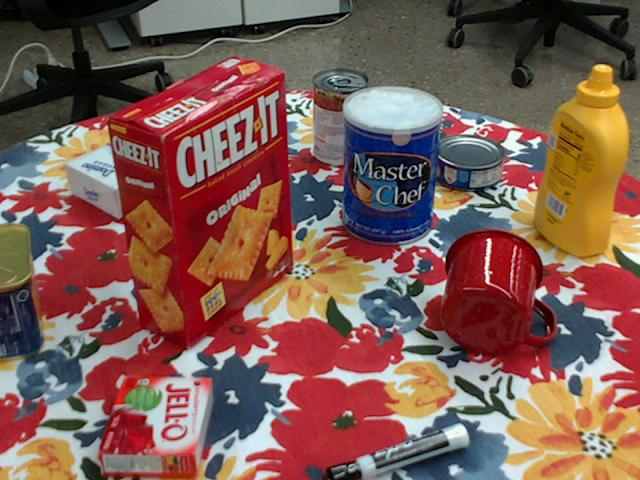cracker_box: (103, 56, 288, 347)
gelatin_box: (102, 376, 213, 476)
large_marker: (324, 423, 470, 479)
master_chef_can: (343, 86, 442, 246)
mug: (442, 227, 555, 354)
mustard_bottle: (531, 66, 626, 257)
potted_meat_can: (0, 222, 43, 359)
sugar_box: (63, 114, 230, 219)
tomato_soup_can: (312, 68, 368, 167)
tuna_fish_can: (433, 136, 506, 192)
